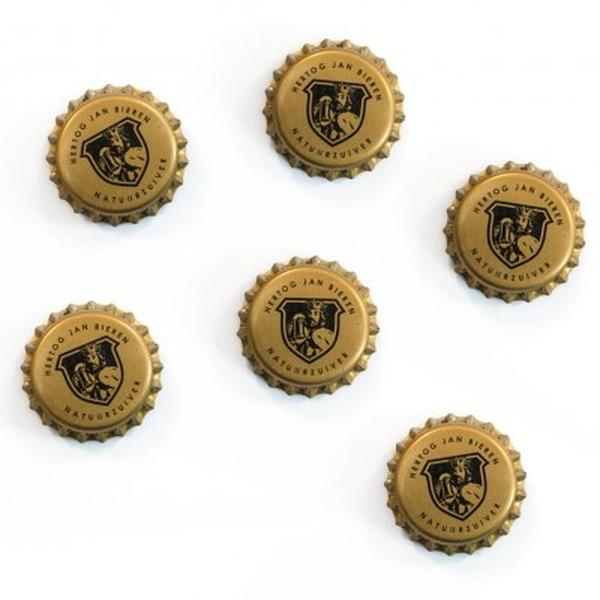hertog jan: (233, 251, 382, 401), (20, 298, 165, 450), (42, 81, 189, 229), (260, 35, 406, 184), (439, 158, 584, 306), (385, 414, 528, 558)
